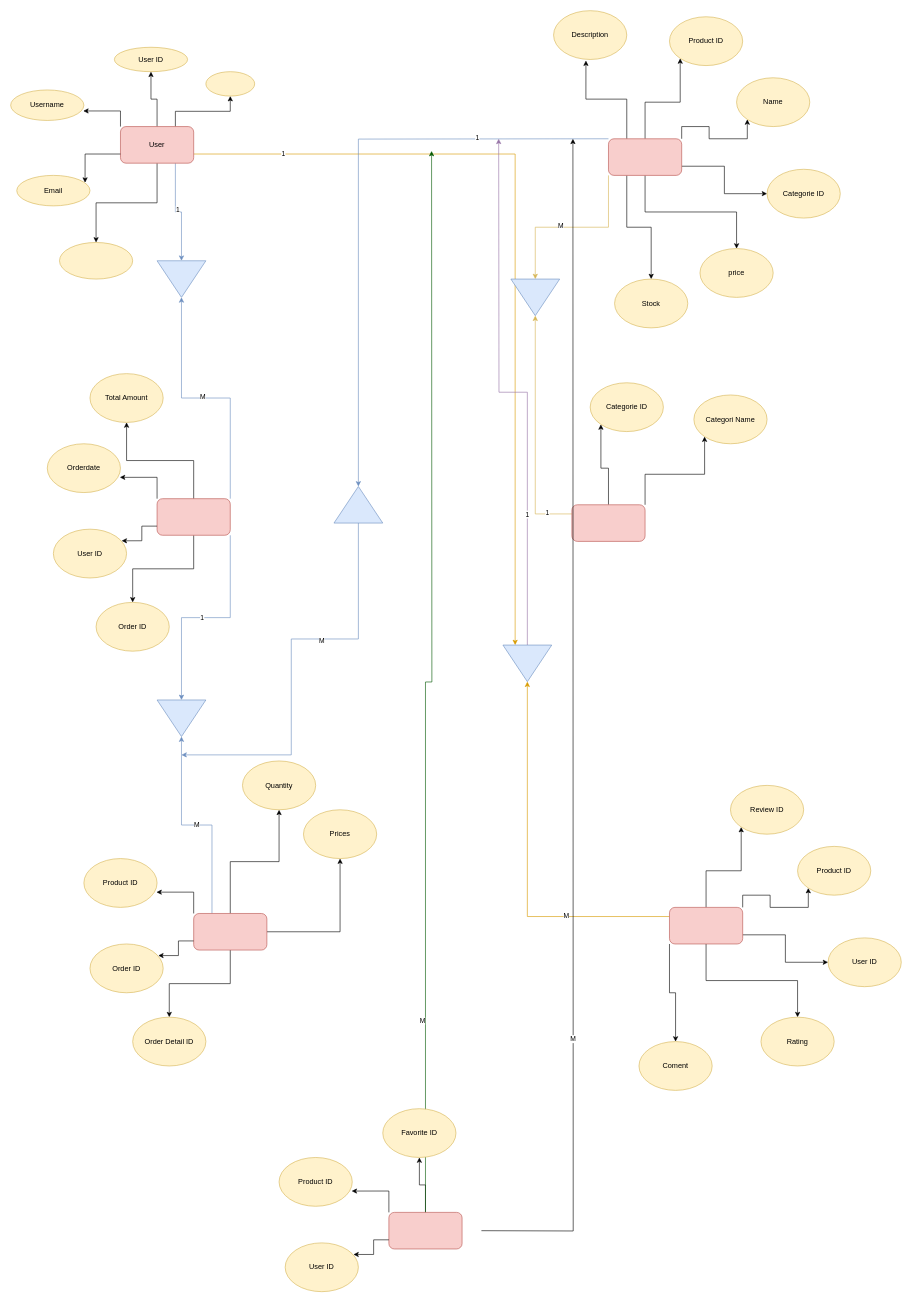
The diagram is 912 pixels wide and 1302 high, and some of its shapes have lost their labels. The shapes that lost their labels are listed below. From the top down, each one's centre as x and y in pixels, then its label:
At point (230, 83): "Adress".
At point (645, 156): "Products".
At point (96, 260): "PassWord".
At point (193, 516): "Orders".
At point (608, 522): "Categories".
At point (230, 931): "Order Details".
At point (706, 925): "Rewiews".
At point (425, 1230): "Favorites".
